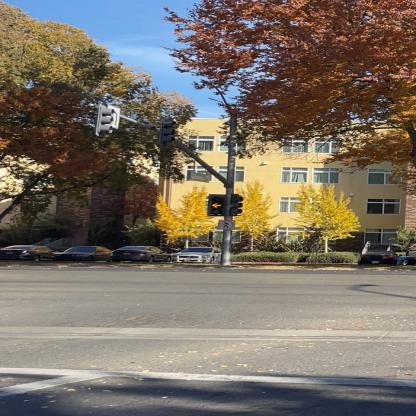left-yellow: (206, 194, 228, 218)
